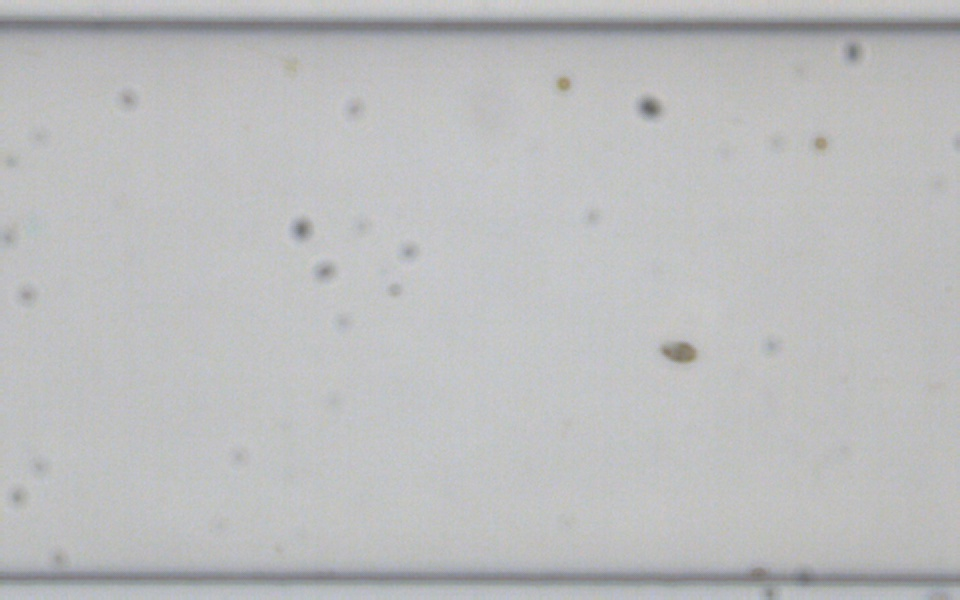Chlorella: (812, 134, 828, 150), (555, 76, 571, 91)
Dunaliella salina: (657, 338, 697, 363)
